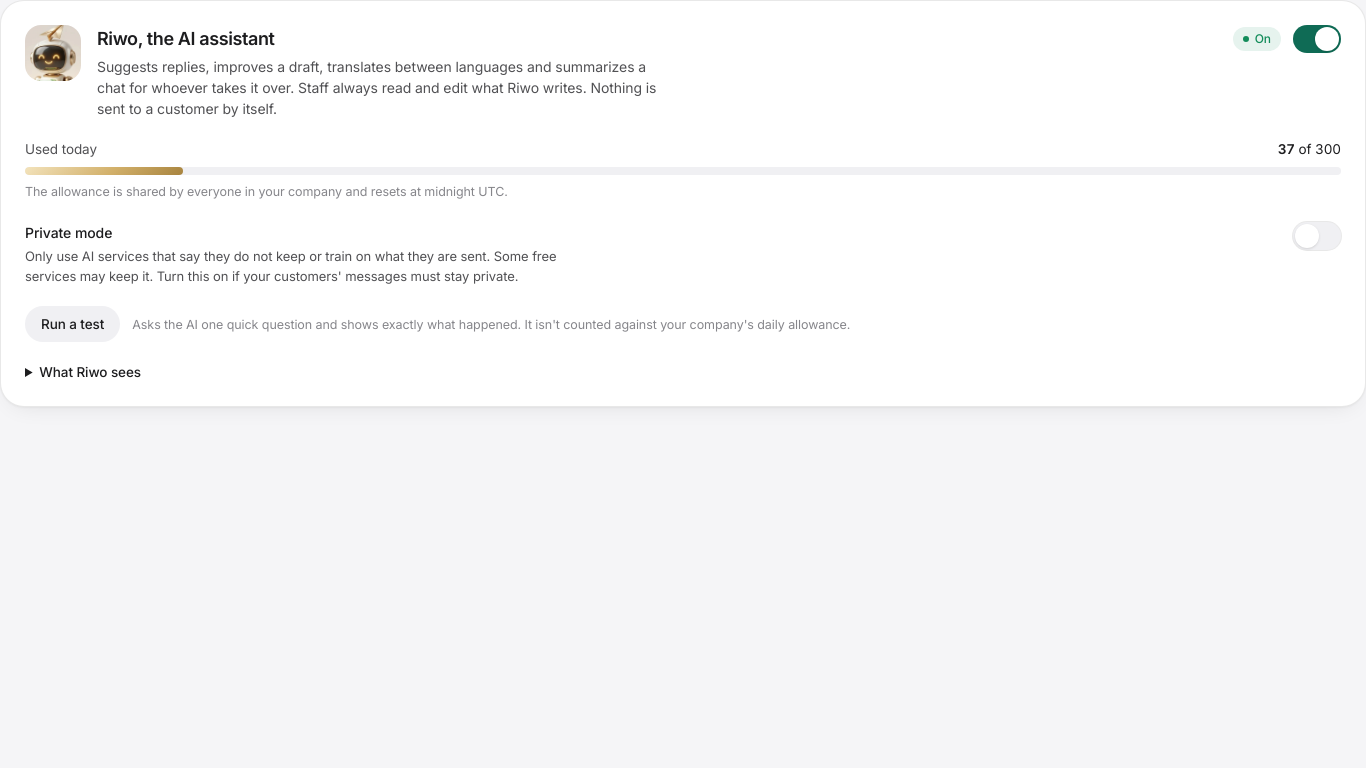
Scenario: the AI assistant settings › a failed test says why, in the words of the account and the models
The image size is (1366, 768).
What coordinates should you click on to do the following:
click the button "Run a test"
I would click on:
 (73, 324)
Its box is [25,306,120,342].
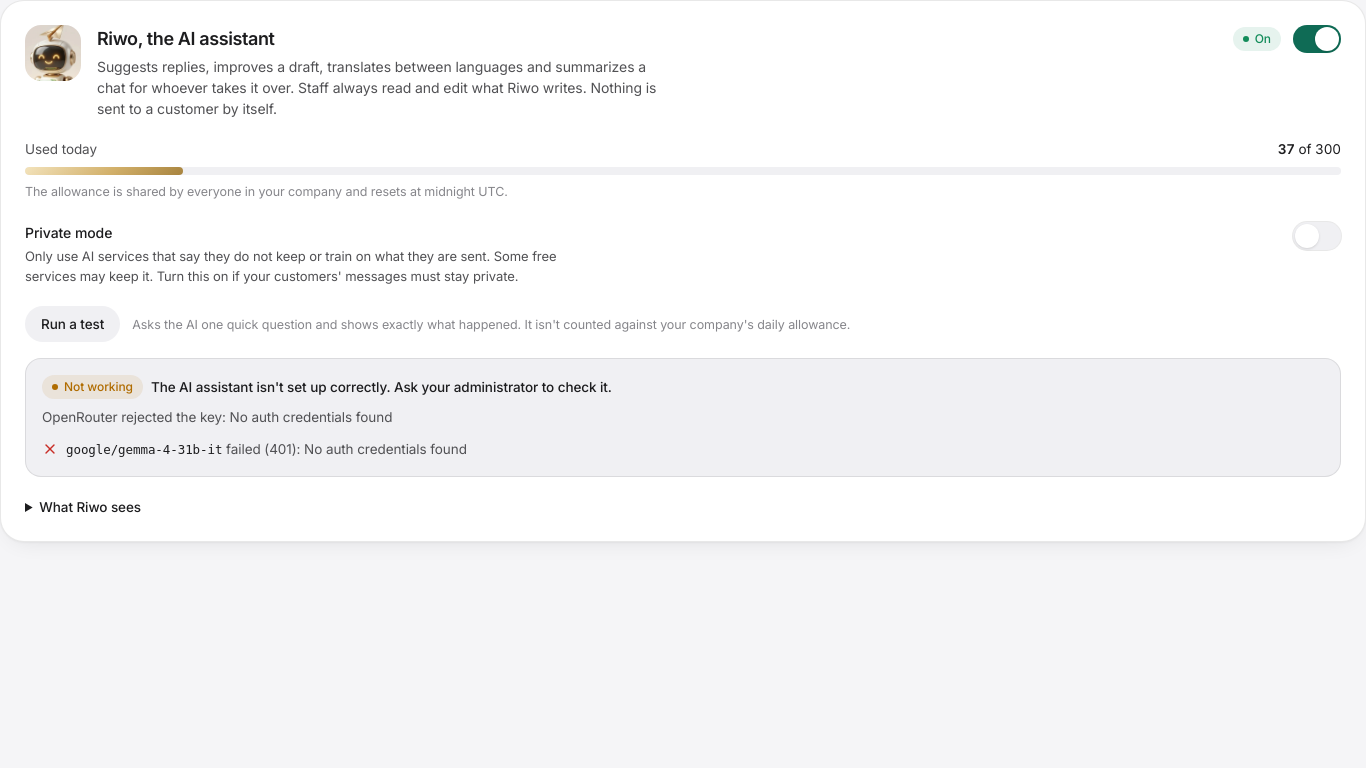
Expected: the text "Not working" is shown, [42,375,143,399]
Expected: the text "isn't set up correctly" is shown, [151,379,612,395]
Expected: the text "OpenRouter rejected the key: No auth credentials found" is shown, [42,409,392,425]
